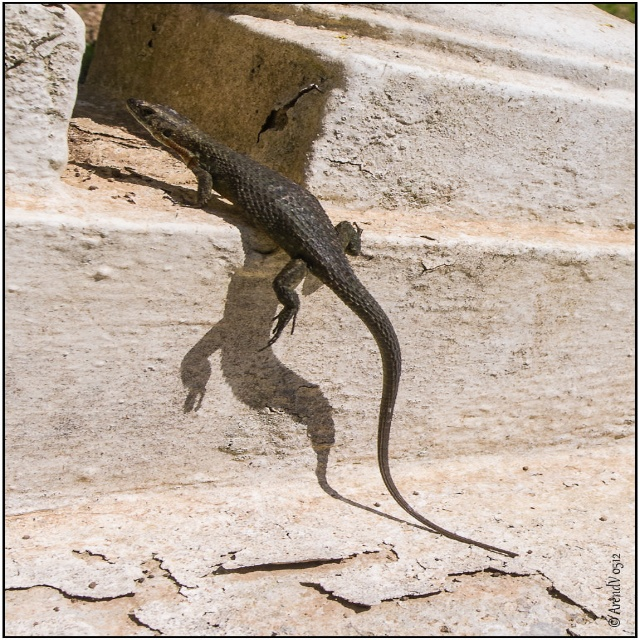Lizard: (133, 96, 515, 556)
